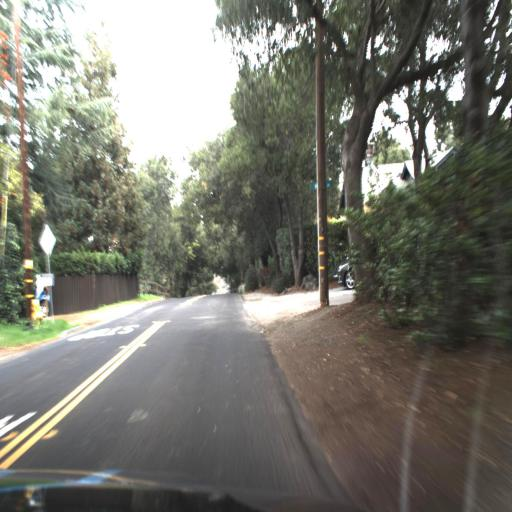car: (336, 253, 363, 289)
